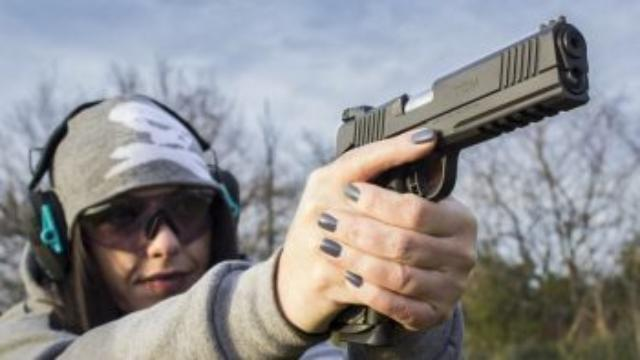handgun: (323, 12, 595, 352)
